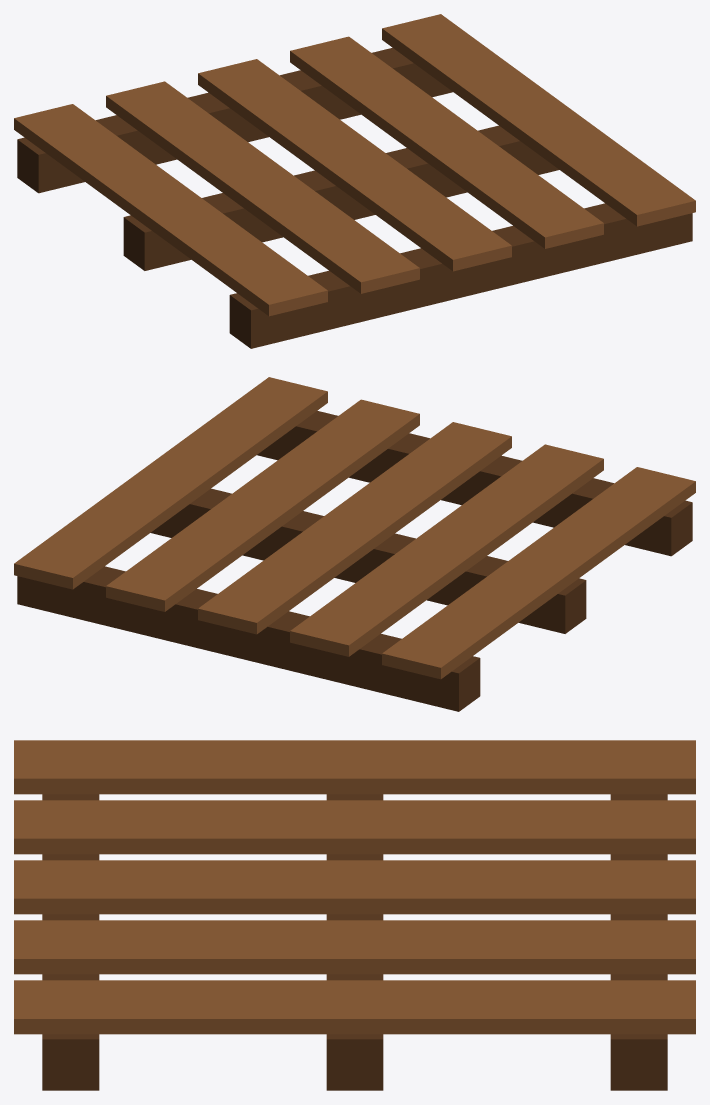
File: prop_pallet.glb
3 views of the same model, one above another, from view 1: azimuth 30°, elevation 25°; view 2: azimuth 150°, elevation 25°; view 3: azimuth 270°, elevation 25° (orthographic). The views are drawn at different scales.
Parts seen in each view (by area): view 1: prop_pallet__mesh; view 2: prop_pallet__mesh; view 3: prop_pallet__mesh.
Part boxes in pixels (bbox=[...]): prop_pallet__mesh: bbox=[14, 14, 695, 348]; prop_pallet__mesh: bbox=[14, 377, 695, 711]; prop_pallet__mesh: bbox=[14, 740, 695, 1090].
Bounding box in the file's own units: 1.2 × 0.13 × 1.2.
